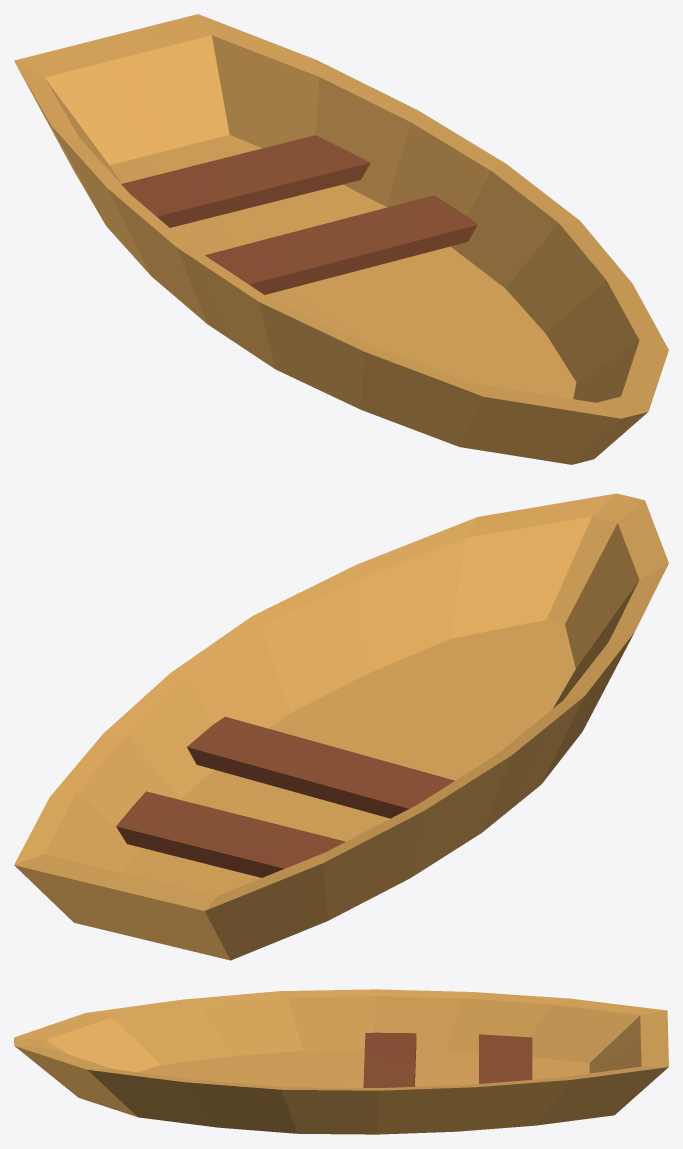
File: Boat 2.fbx
The picture shows the model from 3 angles, top to bottom: view 1: azimuth 30°, elevation 25°; view 2: azimuth 150°, elevation 25°; view 3: azimuth 270°, elevation 25°; orthographic projection. The views are drawn at different scales.
Parts seen in each view (by area): view 1: Boat 2; view 2: Boat 2; view 3: Boat 2.
Boxes of the visible parts, box(x1,y1,x2,y2) form: Boat 2: box(14, 14, 668, 464); Boat 2: box(14, 493, 668, 960); Boat 2: box(14, 989, 668, 1134).
Bounding box in the file's own units: 153 × 37.57 × 417.
